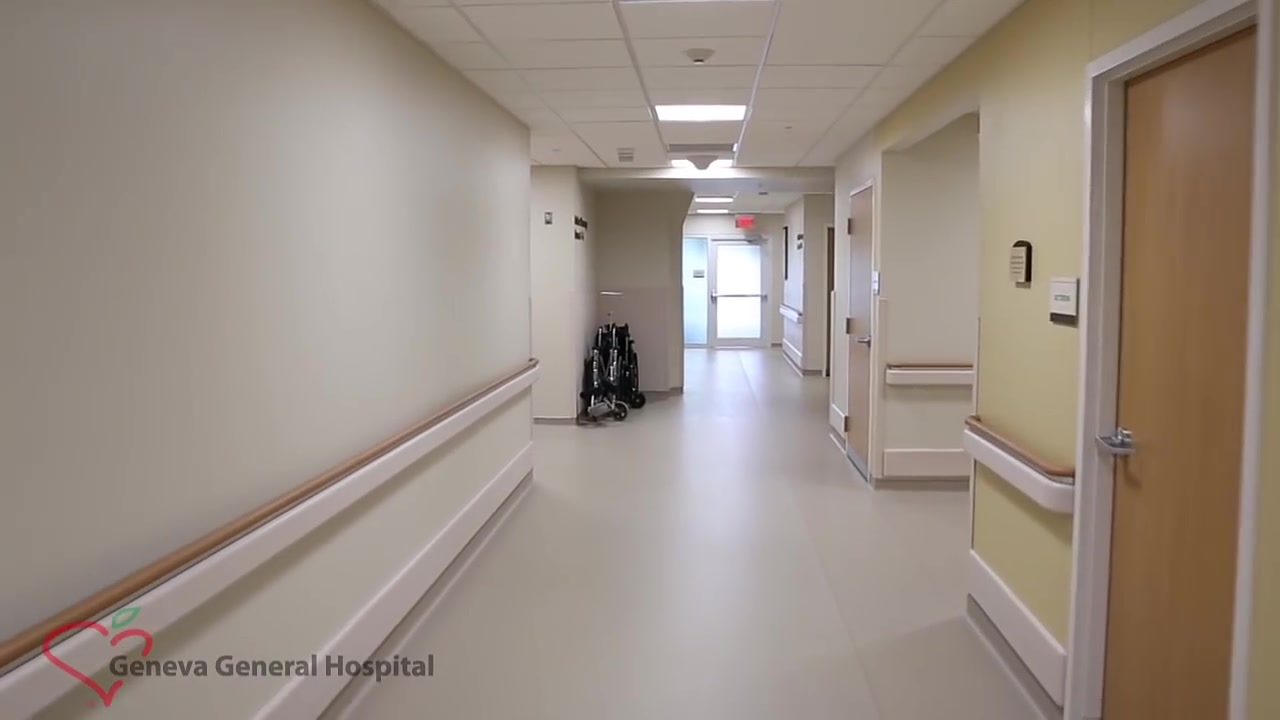door_handle: (1095, 427, 1138, 459), (855, 335, 872, 345)
hallway_assist_bar: (1, 357, 540, 678), (963, 411, 1075, 483), (885, 357, 971, 388), (884, 362, 977, 374), (777, 303, 806, 324)
push_latch: (711, 290, 766, 305)
wheel_chair: (586, 325, 646, 420)
